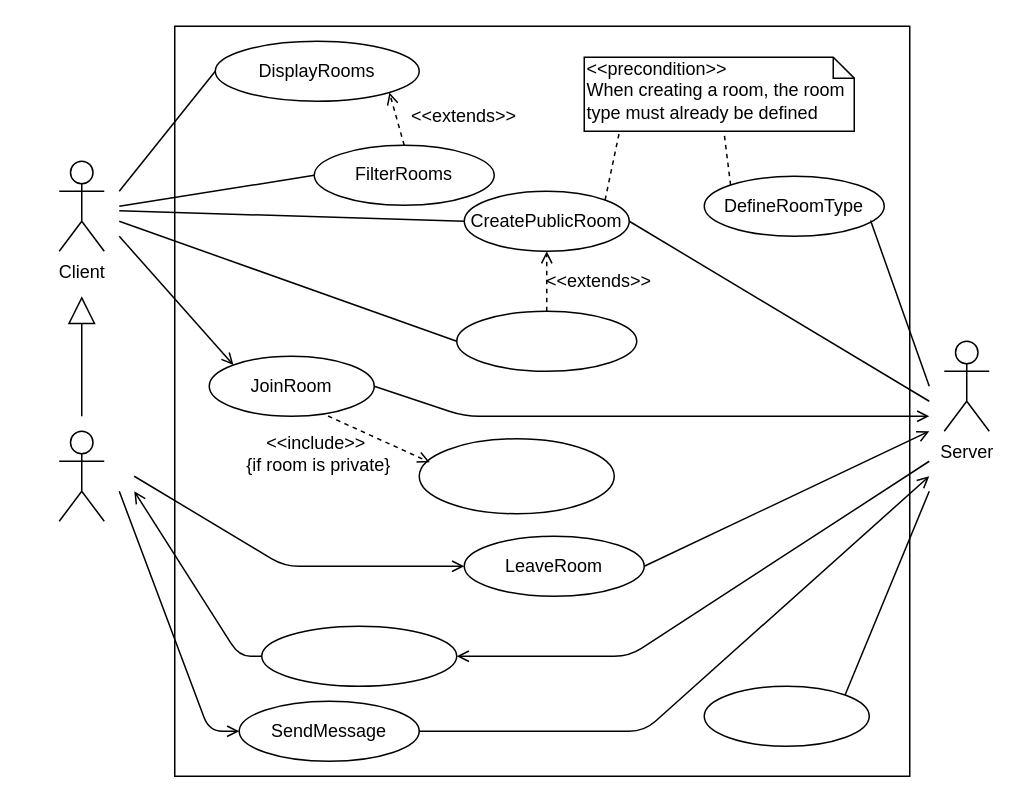
Some shapes in this 1019 by 803 pixel diagram are drawn without their labels. The shapes that lost their labels are listed below. From the top down, each one's centre as x and y in pixels, then its label:
At (x=546, y=340): "CreatePrivateRoom".
At (x=81, y=475): "Client in room".
At (x=516, y=475): "Client Authorization".
At (x=358, y=655): "ReceiveMessage".
At (x=786, y=715): "LaunchServer".
